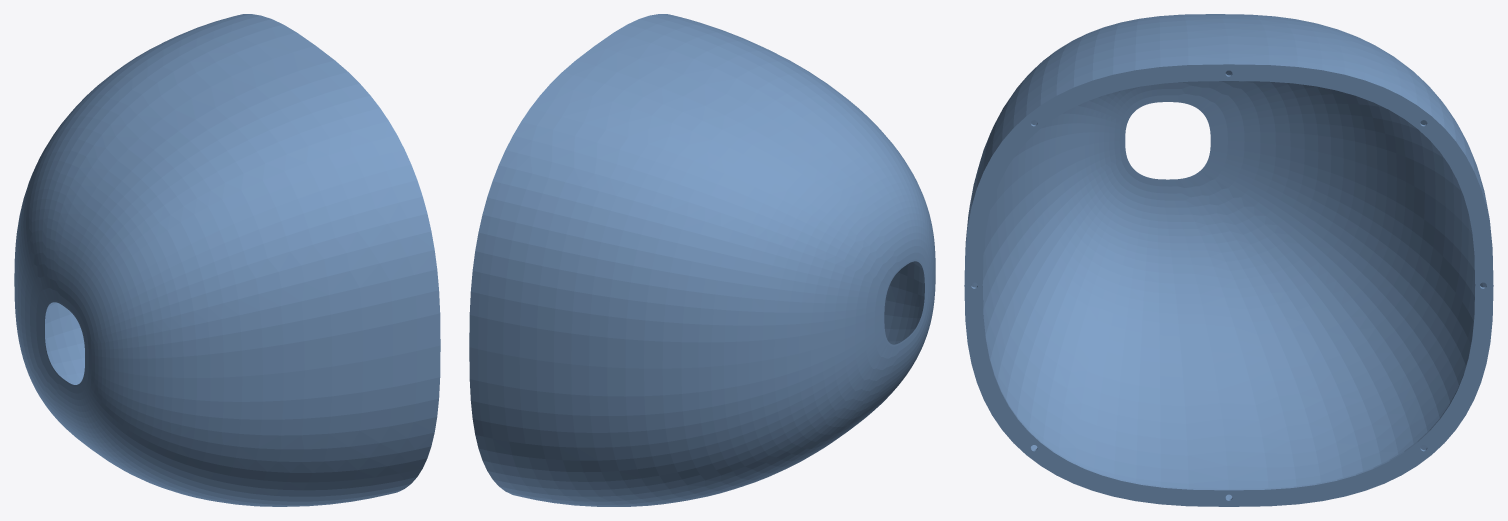
Rendered from FUS-0.glb.
3 views of the same model, side by side, from view 1: azimuth 30°, elevation 25°; view 2: azimuth 150°, elevation 25°; view 3: azimuth 270°, elevation 25° (orthographic). The views are drawn at different scales.
Parts seen in each view (by area): view 1: geometry_0; view 2: geometry_0; view 3: geometry_0.
Boxes of the visible parts, bbox=[...] form: geometry_0: bbox=[14, 14, 440, 506]; geometry_0: bbox=[469, 14, 935, 506]; geometry_0: bbox=[964, 14, 1493, 506].
Bounding box in the file's own units: 168 × 240 × 260.
